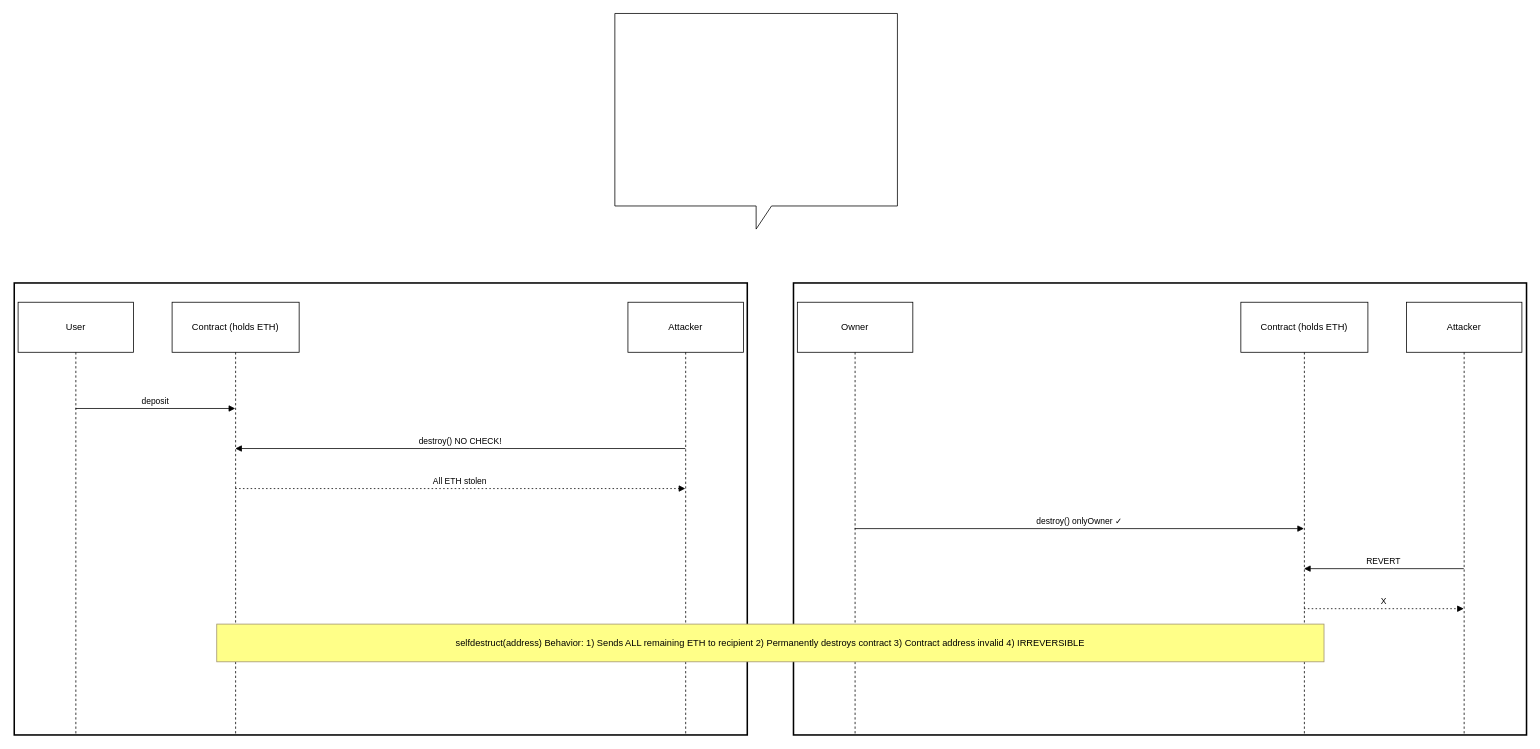
This 1540x749 diagram has some shape labels left out. Each missing label, with the box of its shape:
ATTACK VS FIX: (614, 13, 897, 229)
Fixed (Remediated): (792, 282, 1527, 735)
Vulnerable (SWC-106): (13, 282, 748, 735)
